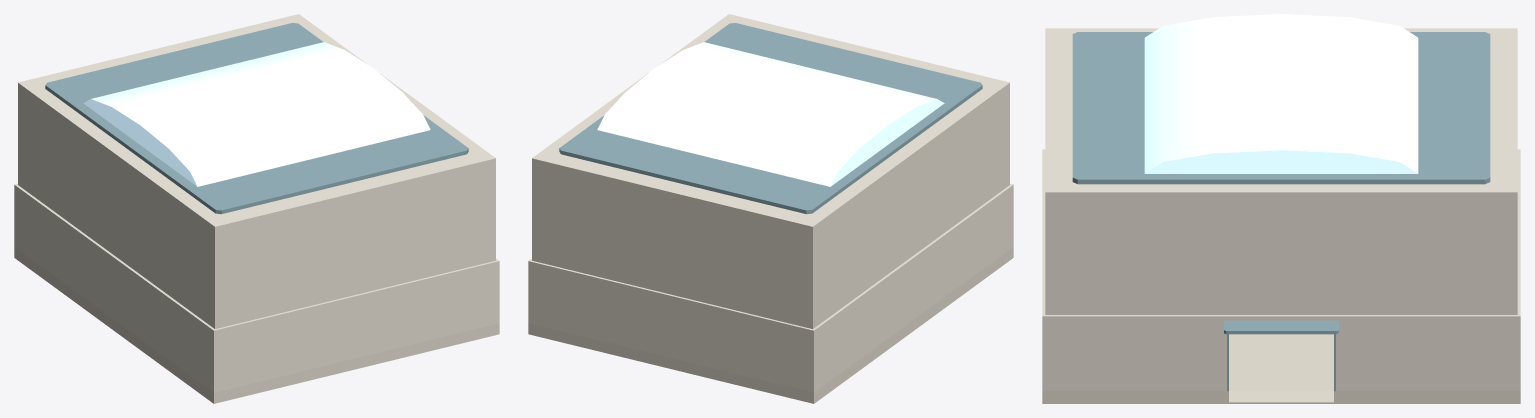
File: Karden_TransitHall_ShadowProxy.glb
The picture shows the model from 3 angles, left to right: view 1: azimuth 30°, elevation 25°; view 2: azimuth 150°, elevation 25°; view 3: azimuth 270°, elevation 25°; orthographic projection. The views are drawn at different scales.
Visible parts, largest first — view 1: Karden_TransitHall_ShadowProxy / Structure, Karden_TransitHall_ShadowProxy / Roof, Karden_TransitHall_ShadowProxy / Foundation; view 2: Karden_TransitHall_ShadowProxy / Structure, Karden_TransitHall_ShadowProxy / Roof, Karden_TransitHall_ShadowProxy / Foundation; view 3: Karden_TransitHall_ShadowProxy / Structure, Karden_TransitHall_ShadowProxy / Roof, Karden_TransitHall_ShadowProxy / Foundation, Karden_TransitHall_ShadowProxy / Entrance modules.
Part boxes in pixels (<box>): Karden_TransitHall_ShadowProxy / Structure: <box>14,14,499,392</box>; Karden_TransitHall_ShadowProxy / Roof: <box>45,23,468,214</box>; Karden_TransitHall_ShadowProxy / Foundation: <box>14,247,499,403</box>; Karden_TransitHall_ShadowProxy / Structure: <box>528,14,1013,392</box>; Karden_TransitHall_ShadowProxy / Roof: <box>559,23,982,214</box>; Karden_TransitHall_ShadowProxy / Foundation: <box>528,247,1013,403</box>; Karden_TransitHall_ShadowProxy / Structure: <box>1042,28,1520,390</box>; Karden_TransitHall_ShadowProxy / Roof: <box>1072,14,1490,184</box>; Karden_TransitHall_ShadowProxy / Foundation: <box>1042,334,1520,403</box>; Karden_TransitHall_ShadowProxy / Entrance modules: <box>1224,320,1338,403</box>.
Size of the model in its own units: 20.2 by 12.65 by 23.
